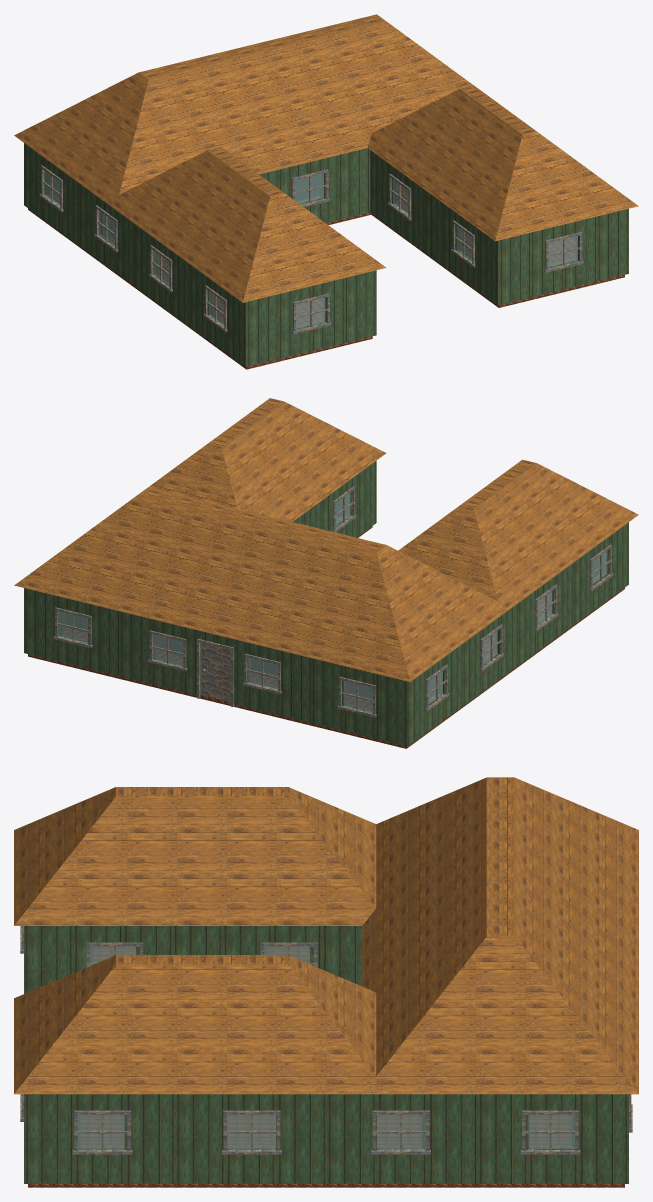
The model's file is ochre-patio.gltf.
The picture shows the model from 3 angles, top to bottom: view 1: azimuth 30°, elevation 25°; view 2: azimuth 150°, elevation 25°; view 3: azimuth 270°, elevation 25°; orthographic projection. The views are drawn at different scales.
Parts seen in each view (by area): view 1: roof-L0-terracotta, exterior-L0-plaster, trim-L0-dark-wood, glazing-L0-glass, floor-L0-floor, interior-L0-interior; view 2: roof-L0-terracotta, exterior-L0-plaster, trim-L0-dark-wood, glazing-L0-glass, floor-L0-floor, door-leaf-L0-dark-wood, interior-L0-interior; view 3: roof-L0-terracotta, exterior-L0-plaster, floor-L0-floor, glazing-L0-glass, trim-L0-dark-wood.
Boxes of the visible parts, left/top/right/bottom form: roof-L0-terracotta: left=14, top=14, right=638, bottom=302; exterior-L0-plaster: left=24, top=143, right=628, bottom=367; trim-L0-dark-wood: left=39, top=165, right=583, bottom=334; glazing-L0-glass: left=46, top=172, right=577, bottom=328; floor-L0-floor: left=28, top=186, right=624, bottom=369; interior-L0-interior: left=101, top=173, right=323, bottom=238; roof-L0-terracotta: left=14, top=398, right=638, bottom=681; exterior-L0-plaster: left=24, top=461, right=628, bottom=746; trim-L0-dark-wood: left=53, top=486, right=613, bottom=717; glazing-L0-glass: left=59, top=493, right=606, bottom=711; floor-L0-floor: left=28, top=517, right=624, bottom=748; door-leaf-L0-dark-wood: left=201, top=643, right=230, bottom=702; interior-L0-interior: left=66, top=613, right=442, bottom=698; roof-L0-terracotta: left=14, top=777, right=638, bottom=1094; exterior-L0-plaster: left=24, top=926, right=628, bottom=1183; floor-L0-floor: left=28, top=947, right=624, bottom=1187; glazing-L0-glass: left=77, top=946, right=575, bottom=1148; trim-L0-dark-wood: left=20, top=926, right=632, bottom=1154.
Bounding box in the file's own units: 12.56 × 4.54 × 12.56.
Materials: 7 (6 with a texture image).
